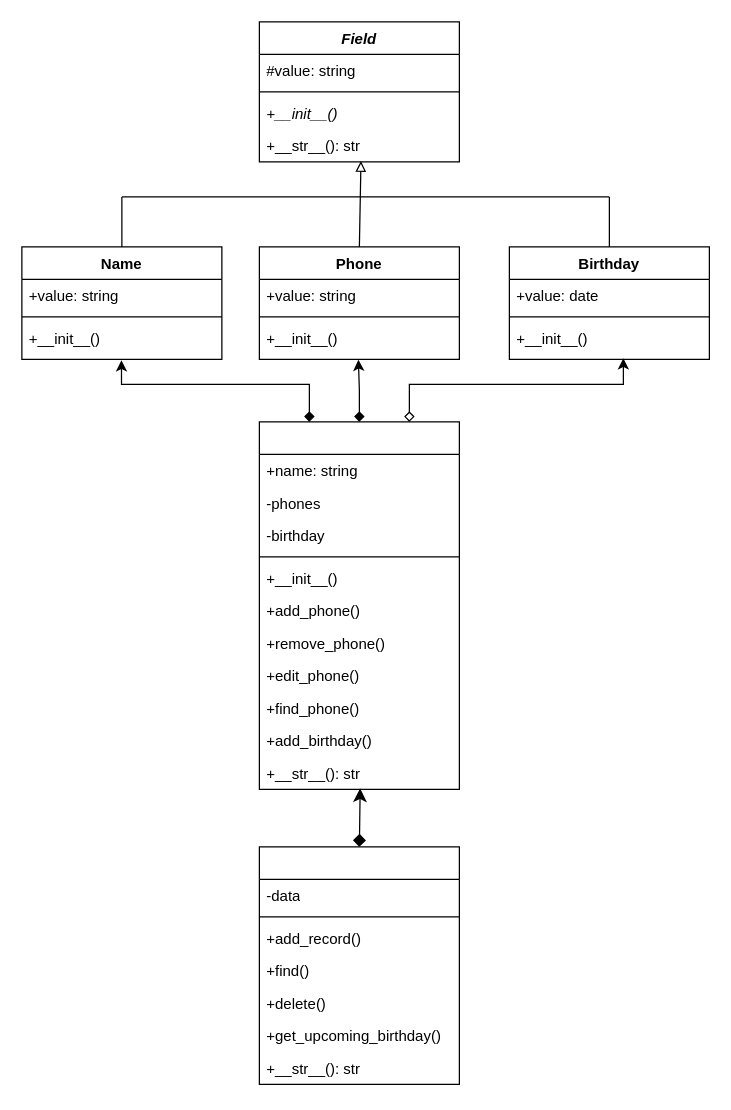
Image size: 731x1110. Some labels were removed from this diagram. The box of each missing label's shape, as (x1, y1, x2, y2) in pixels:
AddressBook: (258, 846, 459, 1084)
Record: (258, 421, 459, 789)
